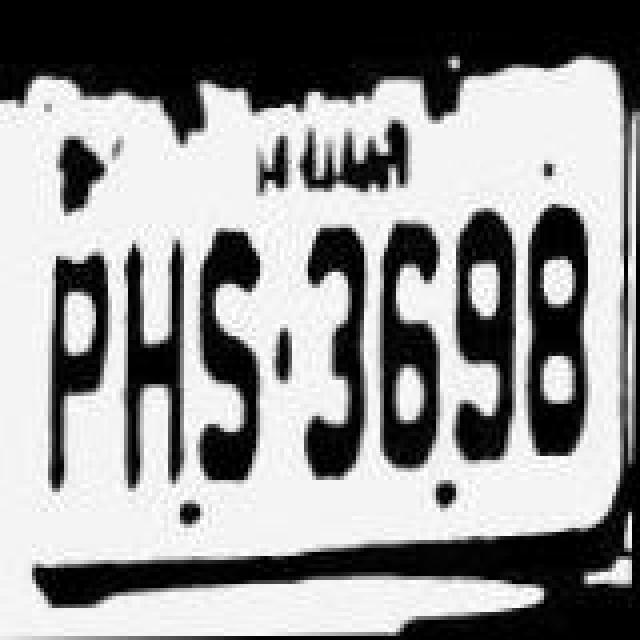3: (294, 214, 378, 490)
6: (376, 198, 448, 482)
8: (522, 196, 598, 480)
9: (444, 194, 524, 482)
H: (118, 230, 194, 494)
P: (24, 242, 120, 510)
S: (192, 226, 272, 498)
